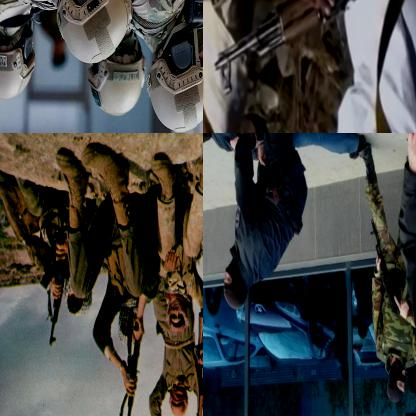rifle: (210, 0, 413, 98), (368, 215, 407, 316), (39, 238, 69, 348), (116, 321, 145, 415)
